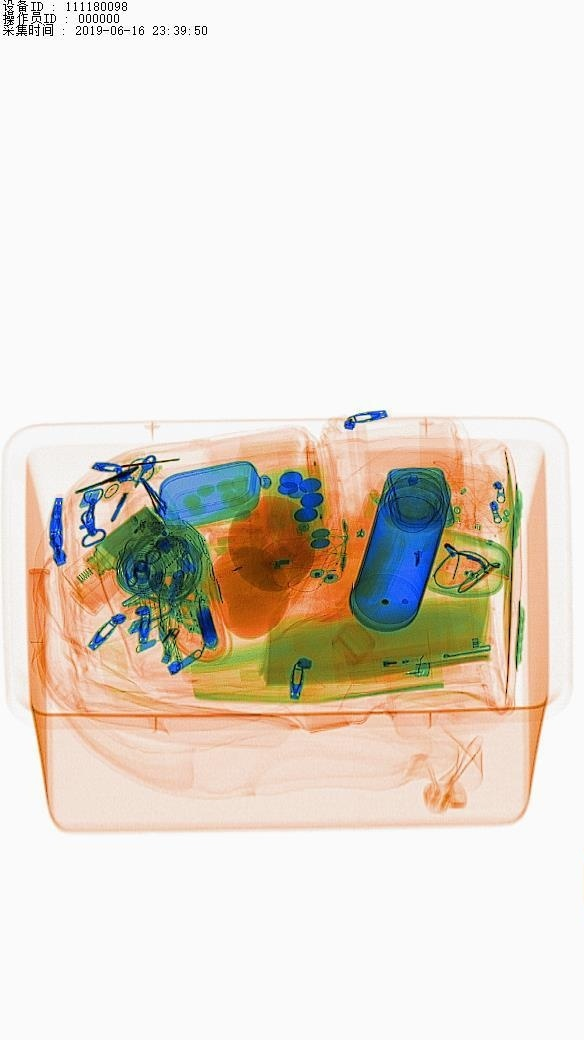NonmetallicFire: (334, 632, 445, 706)
